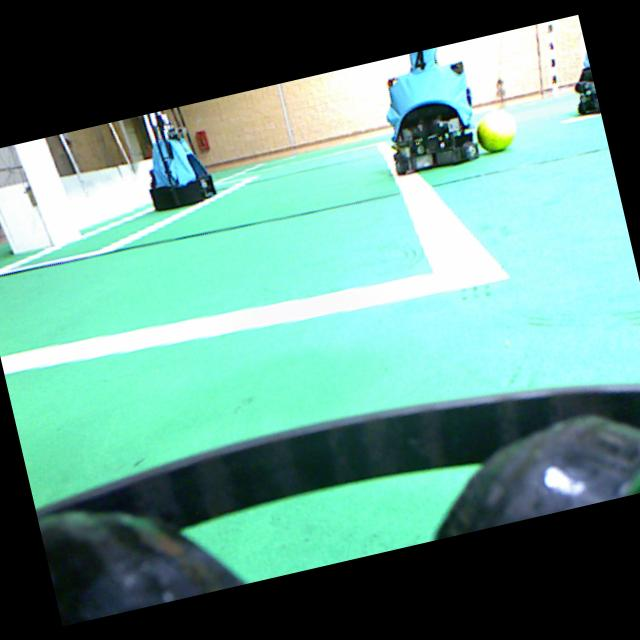ball: (476, 109, 515, 151)
goal: (15, 137, 80, 245)
